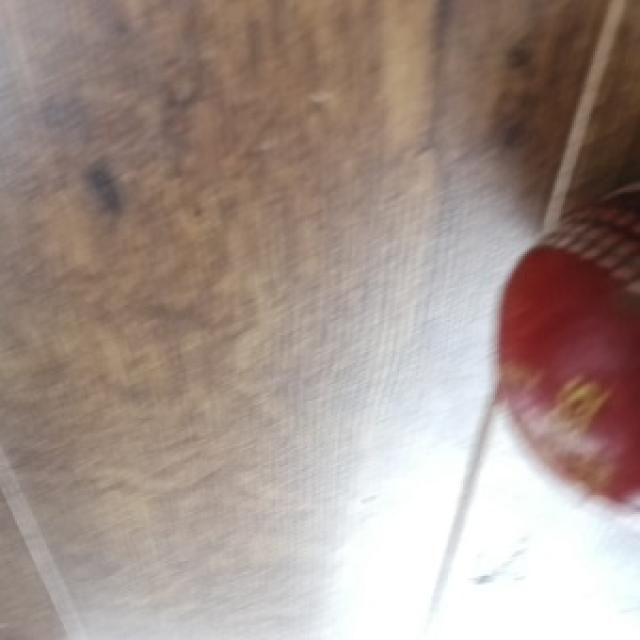ball: (497, 188, 640, 518)
